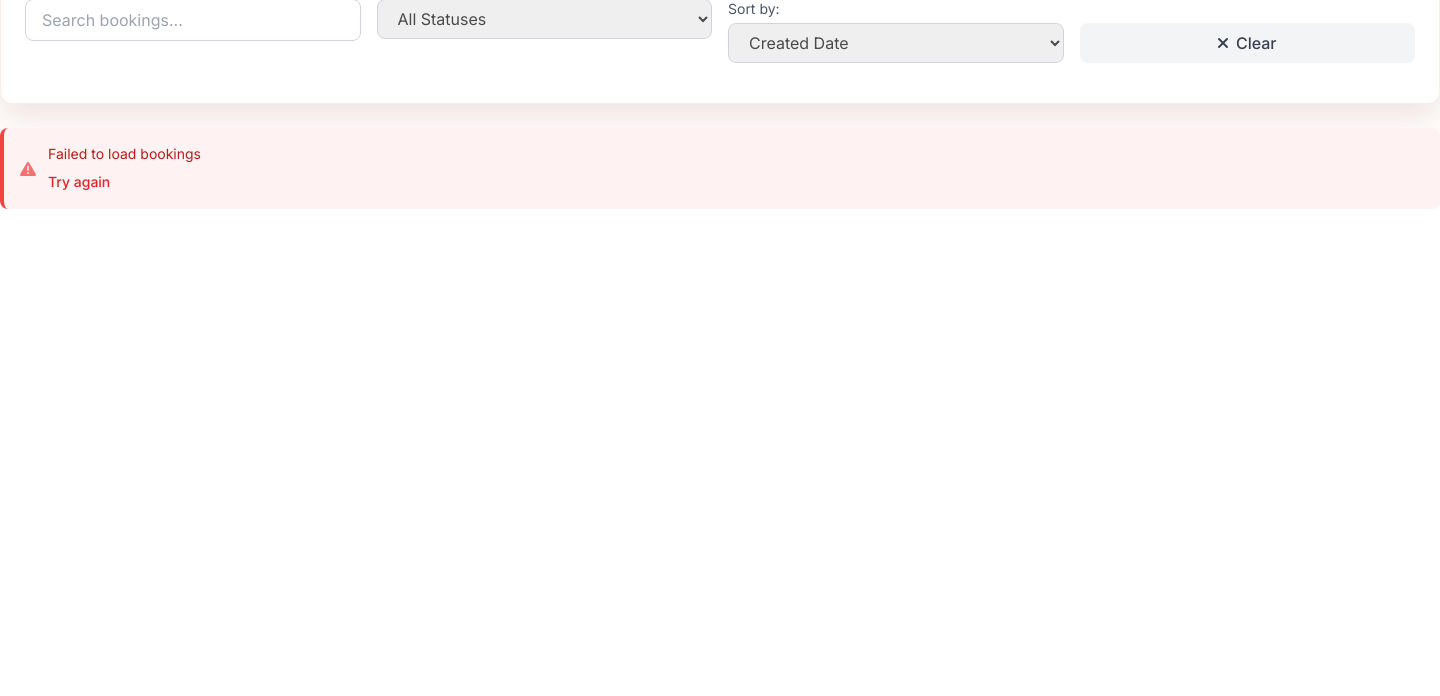
Test: BookingList Component › Error Handling and Retry › displays retry button on error and retries fetchBookings
The width and height of the screenshot is (1440, 696).
Expected: the text "Failed to load bookings" is shown, [48,144,201,164]
Click the button "Try again": (79, 182) [48,172,110,192]
(page scrolled)
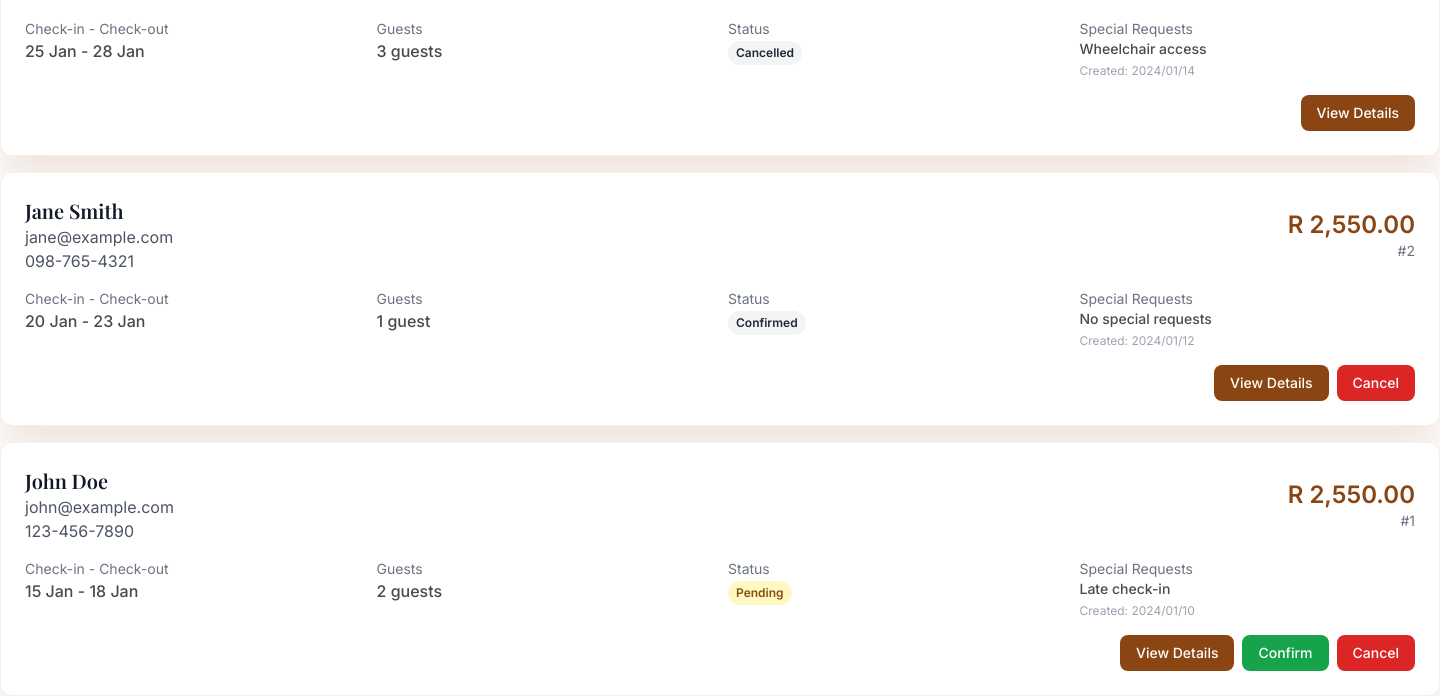
Expected: the heading "John Doe" is shown, [25,467,108,494]
